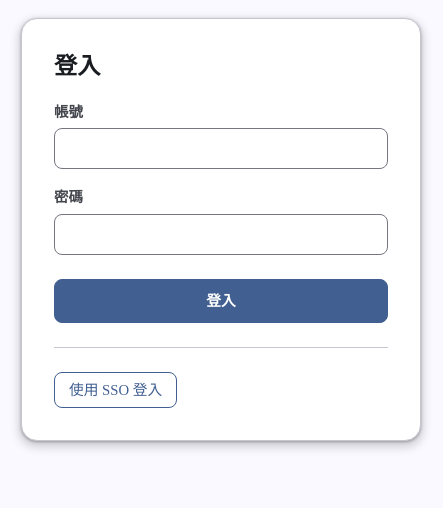
Scenario: LoginForm › shows an invalid-credential message and never renders it as success
Type "nope" into the field labelled "帳號" at [221, 149], box [54,128,388,169]
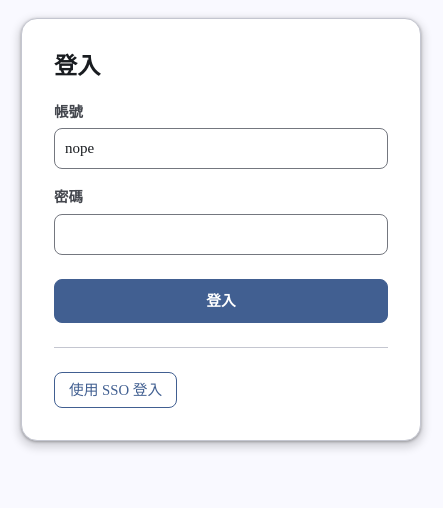
Type "nope" into the password field labelled "密碼" at [221, 234], box [54,214,388,255]
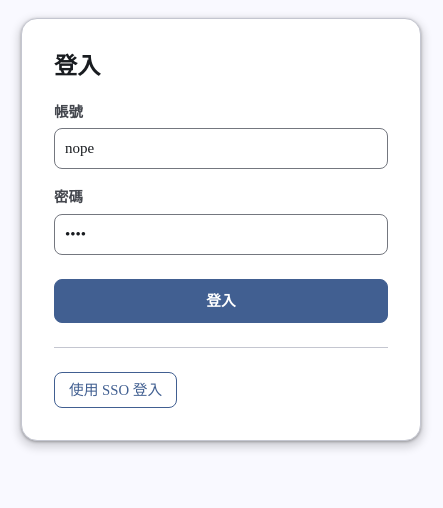
Click the button "登入" at [221, 301], box [54,279,388,323]
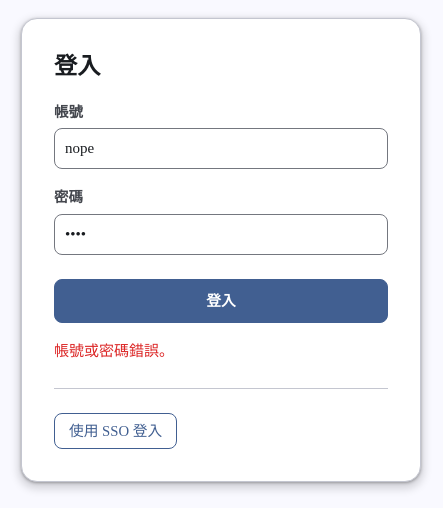
Result: the text "帳號或密碼錯誤。" is shown at [54,343,174,359]
